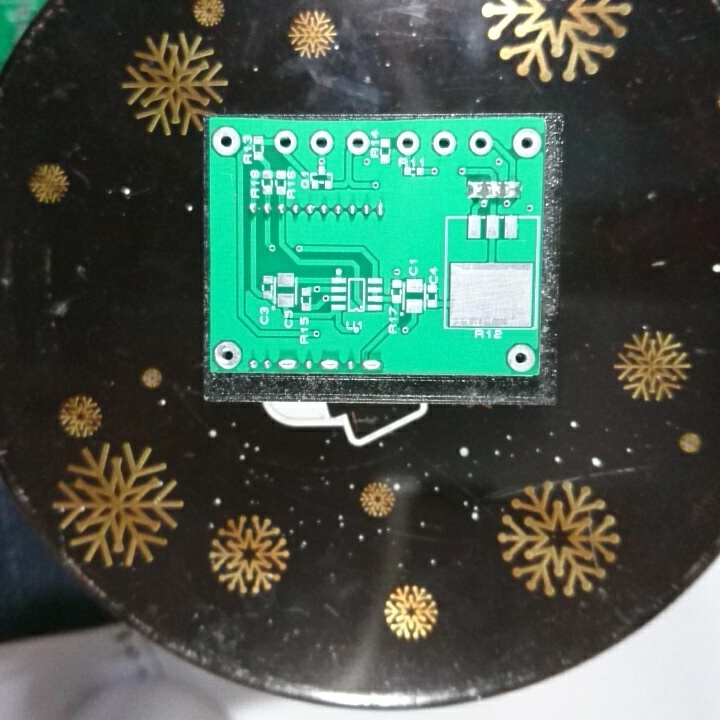F: (211, 338, 245, 370), (505, 343, 539, 375), (510, 127, 545, 158), (211, 125, 242, 160), (465, 128, 496, 157), (430, 129, 459, 159), (271, 127, 299, 156), (394, 130, 422, 158), (345, 129, 371, 158), (309, 129, 335, 156)
P: (359, 355, 384, 372), (277, 356, 300, 372), (318, 357, 342, 372)
